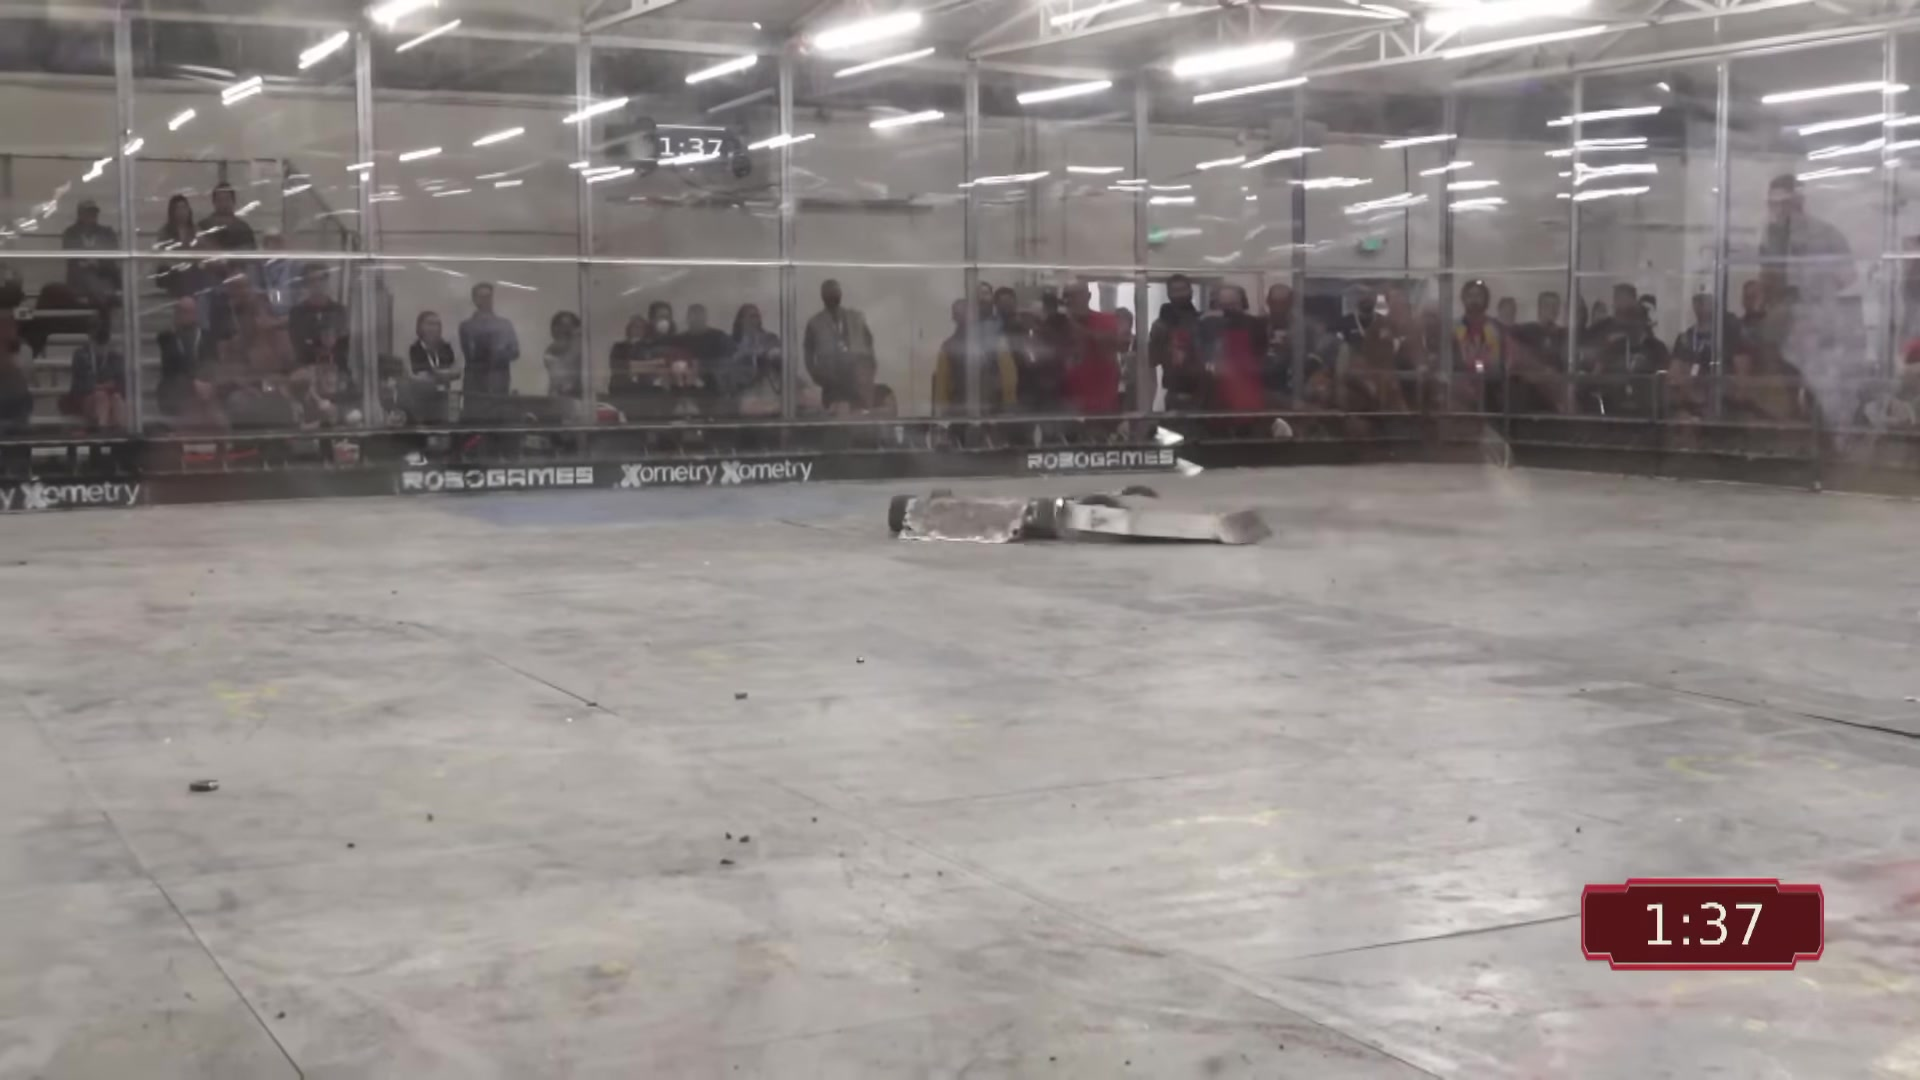combatbot: (1071, 487, 1271, 546), (889, 487, 1059, 546)
